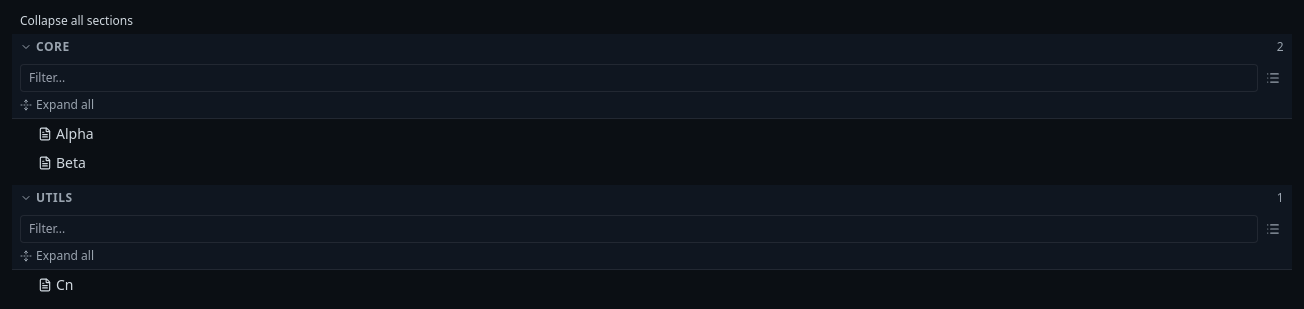
Test: SectionedTree › clicking a section header collapses just that section's nodes
The width and height of the screenshot is (1304, 309).
Click the Core section header
Click the button "Core 2" at {"x": 53, "y": 46}, box [12,34,1292,60]
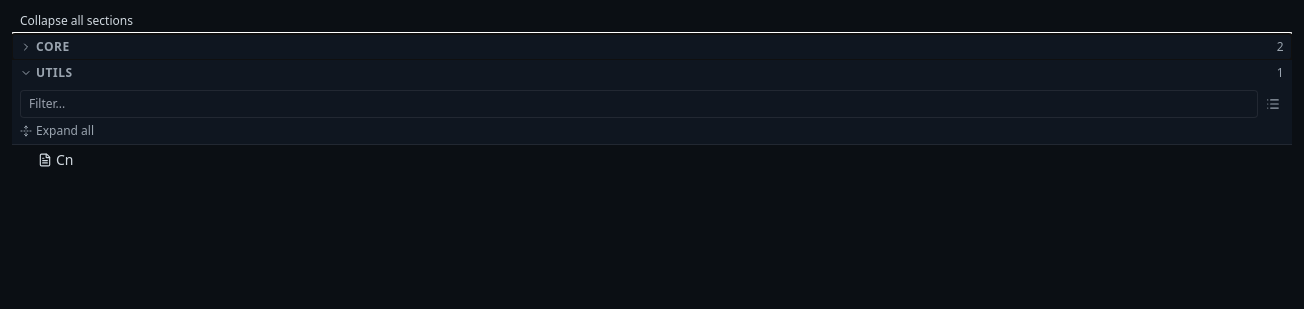
Expected: the text "Cn" is shown, [56,149,74,170]
Expected: the text "Alpha" is gone
Expected: the text "Beta" is gone
